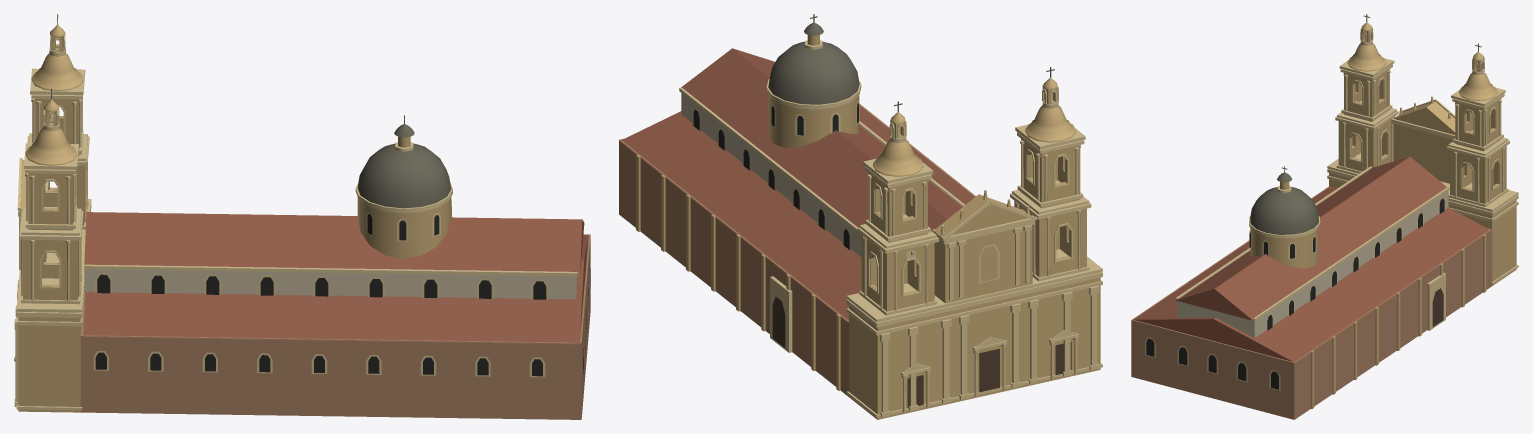
The model's file is catedral-primada-de-colombia-far.glb.
3 renders of one model, left to right at view 1: azimuth 30°, elevation 25°; view 2: azimuth 150°, elevation 25°; view 3: azimuth 270°, elevation 25°, orthographic. The views are drawn at different scales.
Parts seen in each view (by area): view 1: catedral-primada-de-colombia-0-roof, catedral-primada-de-colombia-0-rubble, catedral-primada-de-colombia-0-stone, catedral-primada-de-colombia-0-trim, catedral-primada-de-colombia-0-plaster, catedral-primada-de-colombia-0-metal, catedral-primada-de-colombia-0-recess; view 2: catedral-primada-de-colombia-0-stone, catedral-primada-de-colombia-0-roof, catedral-primada-de-colombia-0-trim, catedral-primada-de-colombia-0-rubble, catedral-primada-de-colombia-0-metal, catedral-primada-de-colombia-0-plaster, catedral-primada-de-colombia-0-wood, catedral-primada-de-colombia-0-recess; view 3: catedral-primada-de-colombia-0-roof, catedral-primada-de-colombia-0-rubble, catedral-primada-de-colombia-0-stone, catedral-primada-de-colombia-0-trim, catedral-primada-de-colombia-0-plaster, catedral-primada-de-colombia-0-metal, catedral-primada-de-colombia-0-recess, catedral-primada-de-colombia-0-wood.
Boxes of the visible parts, box(x1,y1,x2,y2) form: catedral-primada-de-colombia-0-roof: box(83, 212, 588, 344); catedral-primada-de-colombia-0-rubble: box(80, 234, 590, 419); catedral-primada-de-colombia-0-stone: box(18, 24, 451, 412); catedral-primada-de-colombia-0-trim: box(14, 34, 590, 410); catedral-primada-de-colombia-0-plaster: box(84, 269, 577, 306); catedral-primada-de-colombia-0-metal: box(51, 14, 451, 208); catedral-primada-de-colombia-0-recess: box(95, 214, 590, 376); catedral-primada-de-colombia-0-stone: box(636, 35, 1100, 419); catedral-primada-de-colombia-0-roof: box(619, 48, 974, 322); catedral-primada-de-colombia-0-trim: box(679, 40, 1102, 417); catedral-primada-de-colombia-0-rubble: box(619, 104, 975, 396); catedral-primada-de-colombia-0-metal: box(768, 14, 1054, 254); catedral-primada-de-colombia-0-plaster: box(681, 93, 962, 257); catedral-primada-de-colombia-0-wood: box(772, 296, 1071, 408); catedral-primada-de-colombia-0-recess: box(693, 103, 858, 249); catedral-primada-de-colombia-0-roof: box(1133, 156, 1491, 362); catedral-primada-de-colombia-0-rubble: box(1131, 186, 1492, 419); catedral-primada-de-colombia-0-stone: box(1250, 22, 1516, 408); catedral-primada-de-colombia-0-trim: box(1145, 30, 1518, 390); catedral-primada-de-colombia-0-plaster: box(1177, 168, 1448, 337); catedral-primada-de-colombia-0-metal: box(1250, 14, 1481, 234); catedral-primada-de-colombia-0-recess: box(1146, 198, 1444, 389); catedral-primada-de-colombia-0-wood: box(1432, 288, 1443, 326).
Size of the model in its own units: 95.07 by 52 by 80.14.
